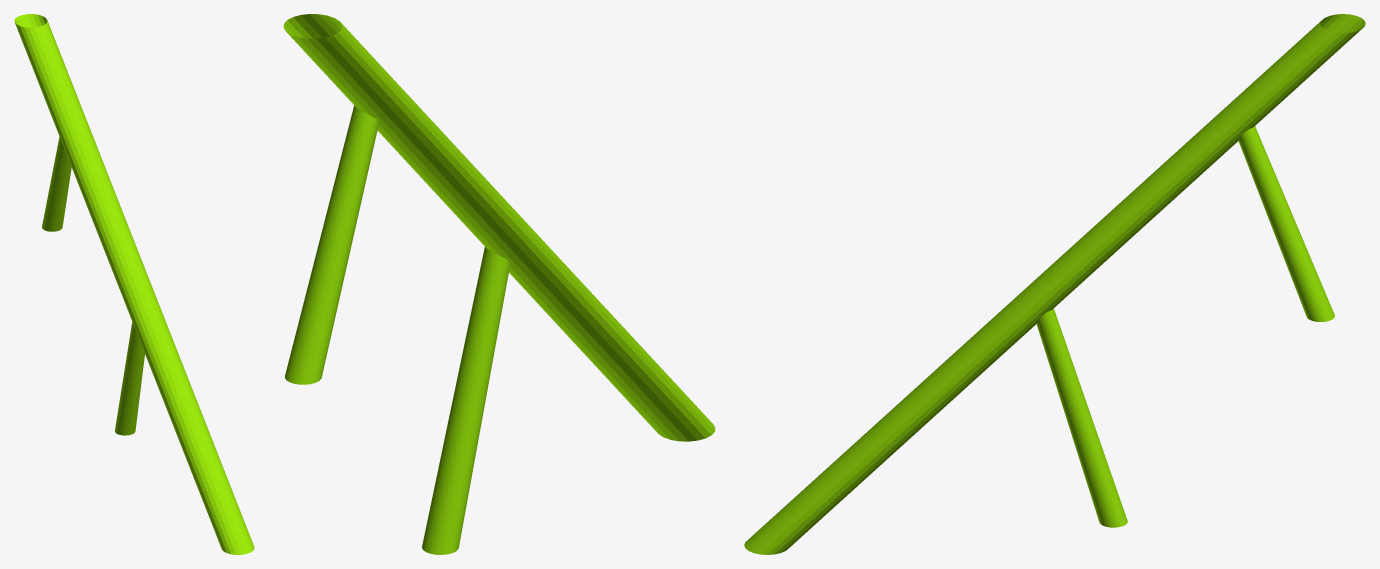
File: EN_W_fence3.fbx
3 renders of one model, left to right at view 1: azimuth 30°, elevation 25°; view 2: azimuth 150°, elevation 25°; view 3: azimuth 270°, elevation 25°, orthographic. The views are drawn at different scales.
Parts seen in each view (by area): view 1: EN_W_fence3; view 2: EN_W_fence3; view 3: EN_W_fence3.
Part boxes in pixels (bbox=[...]): EN_W_fence3: bbox=[14, 14, 254, 554]; EN_W_fence3: bbox=[283, 14, 715, 554]; EN_W_fence3: bbox=[744, 14, 1365, 554].
Size of the model in its own units: 20.46 by 200 by 216.
